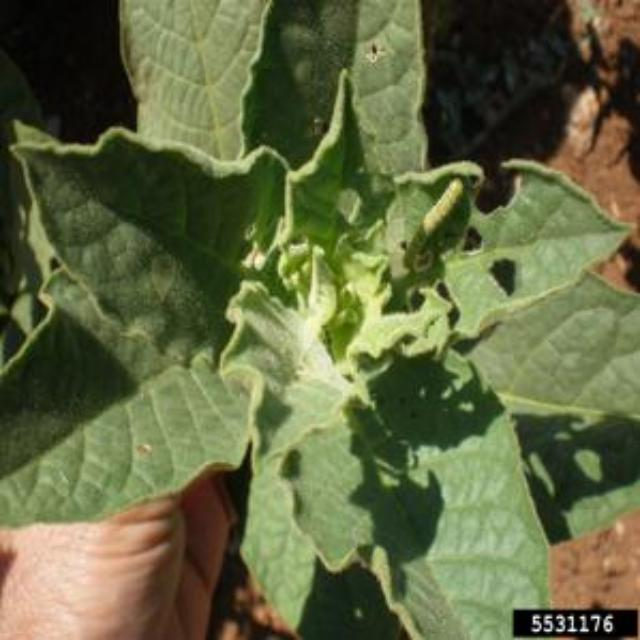Cotton bollworm: (390, 162, 490, 276)
